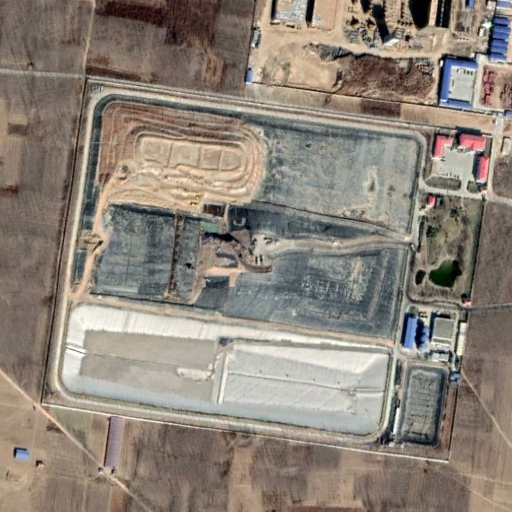lf: (75, 92, 424, 334)
